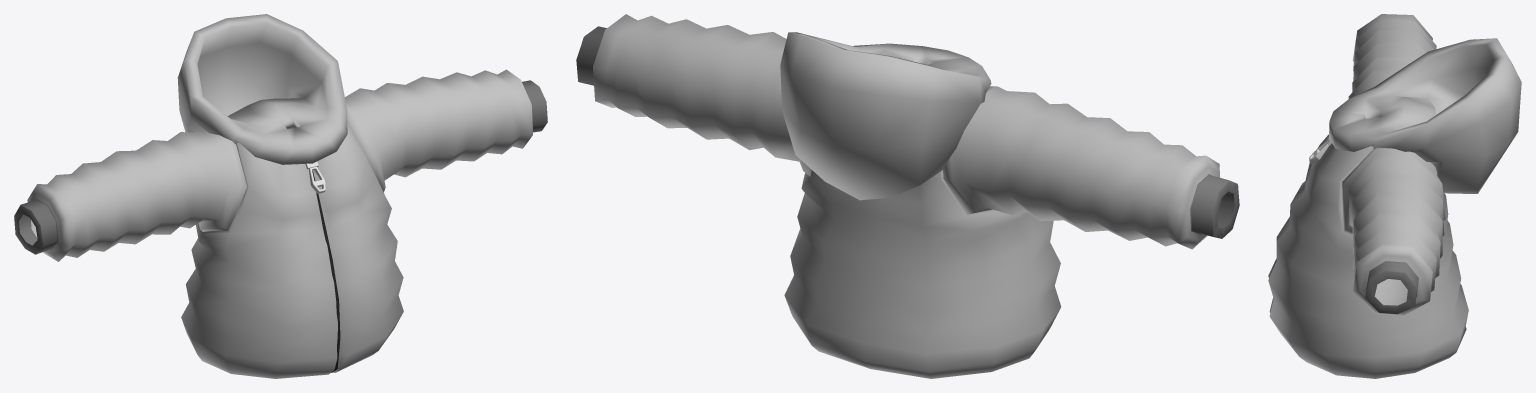
File: Outerwear_White_014.glb
The picture shows the model from 3 angles, left to right: view 1: azimuth 30°, elevation 25°; view 2: azimuth 150°, elevation 25°; view 3: azimuth 270°, elevation 25°; orthographic projection. The views are drawn at different scales.
Visible parts, largest first — view 1: Outerwear_White_014; view 2: Outerwear_White_014; view 3: Outerwear_White_014.
Part boxes in pixels (x1=…): Outerwear_White_014: x1=14, y1=14, x2=547, y2=378; Outerwear_White_014: x1=576, y1=14, x2=1239, y2=378; Outerwear_White_014: x1=1268, y1=14, x2=1521, y2=378.
Bounding box in the file's own units: 1.3 × 0.677 × 0.5446.
1 material, 1 textured.
